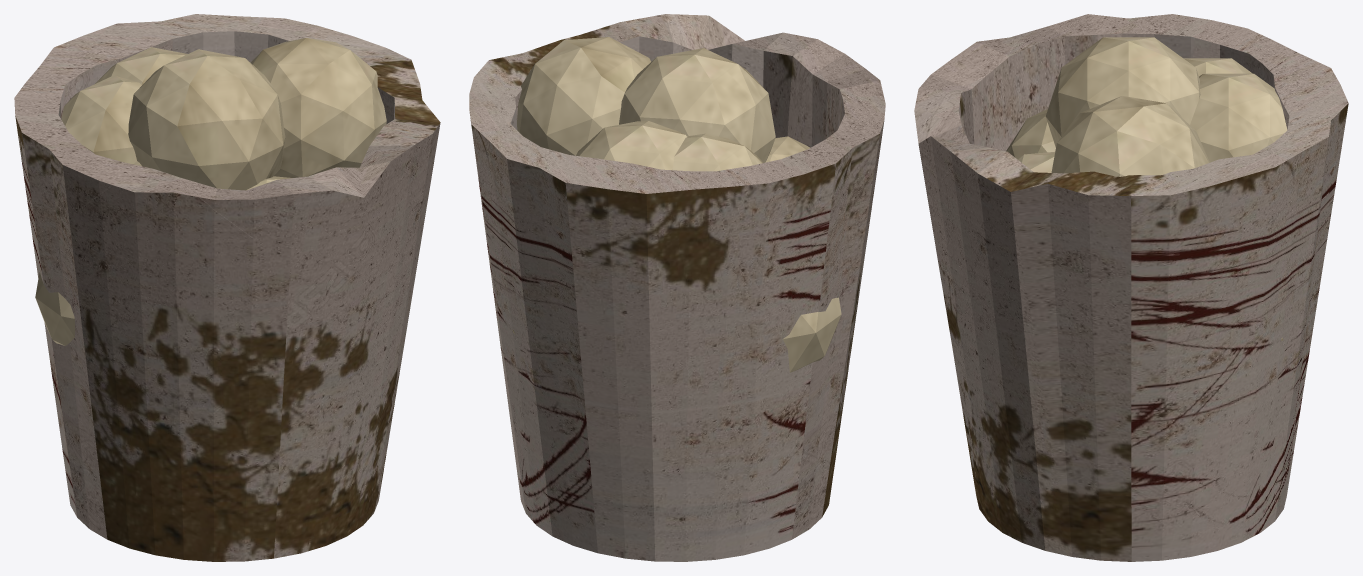
Rendered from trash.glb.
3 views of the same model, side by side, from view 1: azimuth 30°, elevation 25°; view 2: azimuth 150°, elevation 25°; view 3: azimuth 270°, elevation 25° (orthographic).
Parts seen in each view (by area): view 1: trash-col; view 2: trash-col; view 3: trash-col.
Part boxes in pixels (<box>): trash-col: <box>14,14,440,561</box>; trash-col: <box>469,14,885,561</box>; trash-col: <box>914,14,1348,561</box>.
Size of the model in its own units: 0.3429 by 0.3946 by 0.3479.
2 materials, 2 textured.
